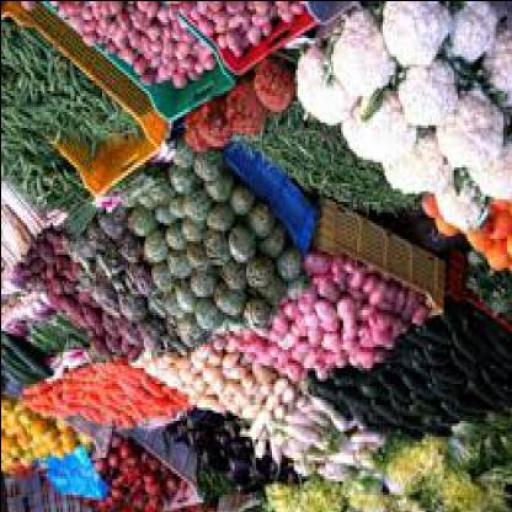biodegradable: (435, 80, 502, 174), (328, 10, 392, 98), (338, 95, 413, 166), (378, 126, 453, 196), (290, 48, 354, 129), (377, 2, 449, 72), (240, 114, 340, 163), (1, 26, 46, 130), (46, 50, 94, 146), (443, 2, 499, 69), (433, 171, 490, 235), (267, 153, 356, 188), (476, 18, 510, 108), (465, 132, 510, 200), (465, 253, 510, 319), (14, 142, 61, 204), (25, 312, 89, 356), (424, 466, 482, 511), (82, 111, 136, 159), (380, 432, 419, 496), (1, 335, 52, 383), (0, 129, 42, 187), (223, 82, 263, 140), (318, 166, 380, 203), (407, 212, 459, 256), (1, 176, 36, 241), (40, 168, 82, 222), (250, 61, 288, 114), (293, 475, 343, 511), (440, 436, 486, 475), (337, 472, 384, 510), (406, 438, 442, 486), (302, 377, 344, 417), (46, 343, 88, 383), (348, 195, 415, 220), (113, 166, 152, 208), (342, 475, 396, 505), (419, 470, 481, 496), (2, 202, 28, 264), (370, 401, 416, 436), (475, 469, 512, 511), (196, 106, 231, 150), (293, 480, 346, 507), (14, 287, 54, 322), (457, 382, 508, 409), (207, 285, 242, 322), (478, 430, 510, 470), (257, 475, 297, 507), (239, 298, 271, 336), (478, 369, 510, 406), (2, 352, 34, 389), (95, 206, 124, 246), (409, 409, 449, 438), (192, 142, 219, 184), (180, 116, 208, 156), (228, 224, 254, 266), (180, 188, 208, 227), (201, 172, 233, 206), (456, 320, 490, 352), (112, 293, 144, 327), (260, 480, 295, 511), (409, 319, 449, 346), (466, 314, 510, 338), (348, 377, 390, 402), (132, 319, 162, 354), (478, 211, 510, 243), (192, 301, 222, 335), (447, 332, 476, 367), (471, 462, 510, 488), (122, 398, 162, 423), (70, 224, 96, 262), (124, 208, 154, 240), (447, 348, 479, 378), (90, 382, 122, 412), (447, 419, 482, 446), (277, 422, 326, 441), (218, 486, 264, 506), (256, 274, 282, 309), (91, 279, 117, 314), (217, 263, 247, 293), (332, 390, 368, 415), (138, 232, 166, 264), (246, 206, 272, 240), (200, 232, 226, 266), (371, 369, 406, 394), (18, 377, 53, 402), (193, 443, 218, 478), (352, 446, 379, 478), (221, 464, 253, 491), (190, 475, 217, 507), (144, 169, 169, 203), (464, 226, 492, 256), (298, 250, 328, 278), (332, 295, 356, 330), (245, 258, 271, 290), (114, 234, 140, 266), (144, 261, 170, 293), (312, 304, 338, 336), (275, 248, 299, 282), (182, 409, 216, 433), (312, 464, 348, 486), (256, 222, 278, 258), (421, 382, 457, 404), (190, 271, 216, 301), (340, 266, 364, 298), (94, 240, 119, 270), (166, 135, 188, 169), (166, 171, 193, 198), (309, 277, 336, 304), (324, 258, 350, 286), (112, 322, 137, 351), (101, 406, 130, 431), (385, 496, 432, 511), (200, 367, 222, 399), (0, 306, 22, 338), (58, 369, 95, 388), (172, 282, 192, 317), (104, 364, 140, 383), (102, 16, 128, 42), (202, 208, 229, 233), (478, 414, 510, 435), (478, 330, 510, 351), (12, 269, 40, 293), (71, 274, 93, 304), (290, 298, 314, 325), (47, 385, 81, 404), (70, 390, 99, 412), (419, 346, 449, 367), (431, 367, 466, 385), (1, 300, 26, 325), (182, 245, 208, 269), (346, 348, 372, 372), (453, 401, 492, 417), (264, 441, 280, 480), (122, 266, 144, 294), (243, 332, 265, 360), (35, 232, 63, 254), (340, 433, 387, 446), (348, 417, 395, 430), (193, 393, 222, 414), (366, 274, 385, 306), (398, 288, 417, 320), (51, 259, 76, 283), (282, 277, 304, 304), (166, 253, 188, 280), (248, 430, 264, 467), (269, 306, 289, 335), (277, 444, 306, 464), (148, 351, 172, 375), (356, 272, 378, 298), (227, 398, 253, 420), (156, 292, 176, 320), (230, 185, 249, 214), (180, 316, 202, 341), (484, 362, 510, 383), (417, 195, 437, 222), (145, 292, 164, 320), (330, 440, 354, 462), (164, 227, 186, 251), (180, 430, 202, 454), (106, 478, 128, 502), (177, 219, 202, 240), (124, 29, 143, 56), (4, 414, 23, 441), (380, 285, 396, 317), (484, 247, 504, 272), (235, 374, 255, 399), (207, 427, 227, 452), (484, 198, 510, 217), (368, 332, 394, 351), (100, 258, 122, 280), (248, 364, 270, 386), (170, 319, 186, 349), (158, 336, 182, 356), (223, 438, 243, 462), (354, 300, 373, 325), (114, 383, 140, 401), (386, 398, 415, 414), (406, 306, 425, 330), (396, 343, 415, 367), (74, 367, 109, 380), (1, 260, 14, 295), (116, 367, 141, 385), (26, 407, 63, 419), (218, 354, 235, 380), (81, 232, 101, 254), (409, 358, 429, 380), (443, 301, 467, 319), (282, 359, 298, 386), (429, 219, 449, 240), (306, 438, 332, 454), (130, 198, 156, 214), (2, 373, 18, 399), (74, 409, 100, 425), (486, 351, 511, 367), (139, 377, 158, 398), (90, 13, 112, 31), (168, 354, 190, 372), (160, 425, 182, 443), (435, 314, 459, 330), (54, 298, 70, 322), (33, 243, 49, 267), (219, 417, 235, 441), (75, 311, 95, 330), (388, 319, 407, 338), (304, 328, 322, 348), (156, 481, 176, 499), (176, 29, 193, 50), (208, 10, 224, 32), (164, 26, 180, 48), (166, 42, 182, 64), (128, 58, 144, 80), (152, 211, 174, 227), (219, 317, 241, 333), (368, 314, 390, 330), (87, 340, 103, 362), (15, 422, 28, 449), (164, 195, 178, 220), (190, 50, 209, 68), (354, 330, 373, 348), (190, 340, 208, 359), (115, 470, 134, 488), (136, 393, 154, 412), (42, 209, 61, 227), (390, 288, 403, 314), (261, 338, 277, 359), (324, 465, 371, 472), (296, 354, 314, 372), (39, 280, 59, 296), (117, 448, 137, 464), (40, 406, 72, 416), (160, 391, 186, 403), (243, 26, 257, 48), (6, 456, 20, 478), (111, 195, 133, 209), (141, 69, 158, 87), (117, 45, 134, 63), (186, 375, 203, 393), (271, 10, 290, 26), (18, 451, 34, 470), (274, 348, 290, 367), (215, 396, 234, 412), (103, 340, 119, 359), (43, 287, 55, 312), (174, 370, 188, 391), (498, 237, 510, 261), (247, 11, 271, 23), (156, 61, 172, 79), (384, 354, 400, 372), (65, 314, 83, 330), (324, 457, 346, 470), (316, 346, 338, 359), (222, 32, 235, 53), (103, 454, 116, 475), (283, 322, 300, 338), (184, 359, 201, 375), (28, 258, 45, 274), (22, 396, 49, 406), (140, 2, 154, 21), (32, 446, 46, 465), (265, 327, 279, 346), (115, 340, 129, 359), (96, 2, 118, 14), (238, 6, 251, 26), (285, 417, 305, 430), (336, 330, 356, 343), (222, 368, 248, 378), (71, 293, 91, 306), (250, 2, 266, 18), (59, 438, 75, 454), (224, 336, 240, 352), (240, 424, 256, 440), (222, 383, 238, 399), (162, 372, 178, 388), (140, 459, 156, 475), (134, 483, 150, 499), (39, 420, 53, 438), (78, 2, 91, 21), (101, 42, 114, 61), (188, 34, 198, 58), (158, 407, 178, 419), (193, 21, 206, 39), (153, 8, 166, 26), (79, 34, 97, 47), (1, 430, 10, 456), (338, 343, 356, 356), (28, 417, 40, 436), (291, 341, 310, 353), (287, 349, 306, 361), (223, 13, 237, 29), (67, 16, 81, 32), (89, 2, 103, 18), (154, 26, 168, 42), (251, 412, 265, 428), (132, 451, 146, 467), (18, 412, 30, 430), (0, 243, 12, 261), (198, 58, 211, 74), (207, 338, 220, 354), (183, 391, 196, 407), (223, 3, 243, 13), (194, 3, 210, 15), (63, 2, 75, 18), (314, 354, 330, 366), (310, 370, 326, 382), (271, 364, 283, 380), (253, 357, 269, 369), (271, 383, 283, 399), (202, 357, 218, 369), (305, 278, 324, 288), (1, 394, 9, 417), (6, 449, 20, 462), (500, 256, 510, 274), (206, 3, 224, 13), (164, 8, 174, 26), (170, 74, 180, 92), (286, 5, 299, 18), (121, 330, 134, 343), (8, 407, 22, 419), (328, 357, 342, 369), (255, 386, 269, 398), (184, 69, 200, 79), (49, 422, 59, 438), (88, 325, 104, 335), (56, 282, 72, 292), (101, 494, 117, 504), (269, 409, 281, 422), (261, 402, 274, 414), (279, 394, 292, 406), (124, 349, 137, 361), (55, 2, 63, 21), (227, 48, 239, 60), (176, 481, 188, 493), (269, 3, 286, 11), (212, 34, 219, 53), (18, 3, 31, 13), (276, 338, 289, 348), (238, 357, 251, 367), (180, 42, 188, 58), (259, 24, 269, 36), (120, 3, 130, 15), (235, 341, 245, 353), (237, 31, 243, 50), (301, 319, 314, 327), (132, 3, 142, 13), (52, 446, 62, 456), (188, 11, 196, 23), (168, 3, 180, 11), (10, 438, 22, 446), (1, 458, 6, 475), (372, 356, 382, 364), (93, 30, 100, 40), (16, 468, 26, 475), (180, 5, 188, 13), (75, 438, 85, 443), (45, 3, 53, 8), (100, 454, 103, 467), (1, 422, 4, 433)
